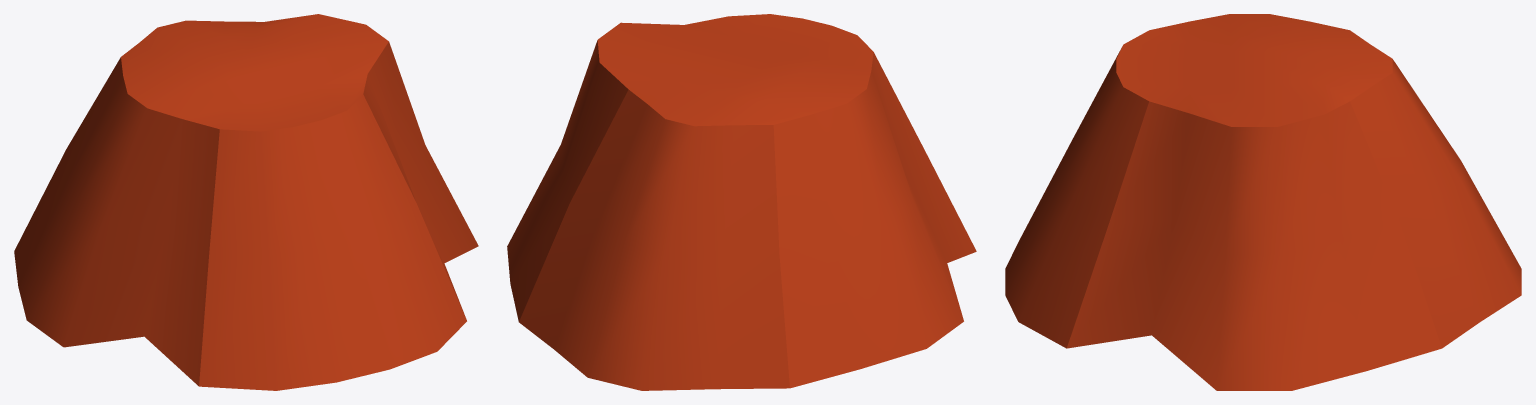
File: Fire.Rock.FBX
The picture shows the model from 3 angles, left to right: view 1: azimuth 30°, elevation 25°; view 2: azimuth 150°, elevation 25°; view 3: azimuth 270°, elevation 25°; orthographic projection.
Parts seen in each view (by area): view 1: Platform2; view 2: Platform2; view 3: Platform2.
Part boxes in pixels (left/top/right/bottom): Platform2: left=14, top=14, right=478, bottom=390; Platform2: left=507, top=14, right=976, bottom=390; Platform2: left=1005, top=14, right=1521, bottom=390.
Size of the model in its own units: 24.34 by 12.31 by 25.81.
